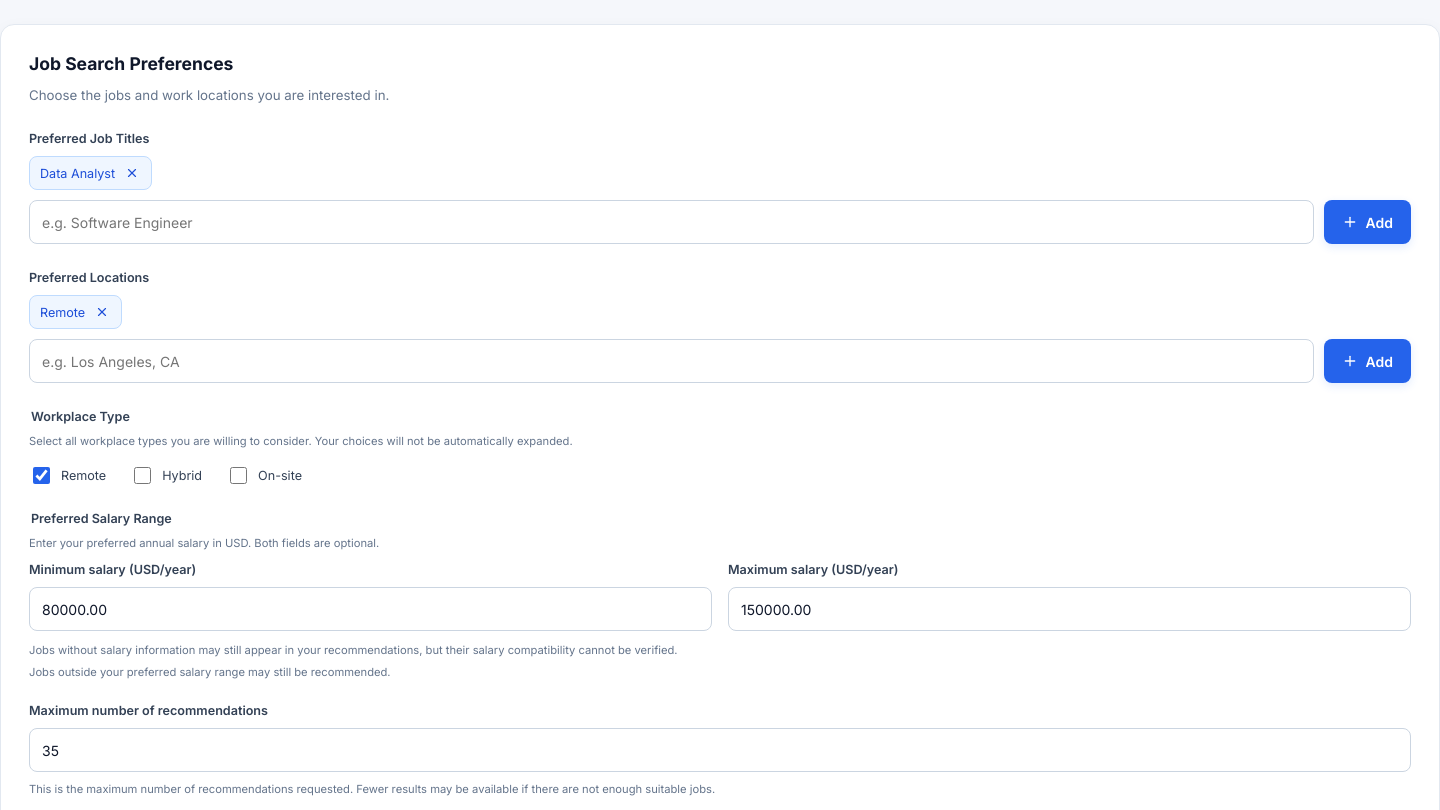
it: SearchPreferencesForm (JH-021) › updates warnings when an unmatched entry is added or removed
Expected: the text "Data Analyst" is shown, [29,156,152,190]
Expected: the text "No current postings match" is not shown
Type "Unknown Job Title" into the field labelled "Preferred Job Titles".
click(671, 222); type("Unknown Job Title")  # box [29,200,1314,244]
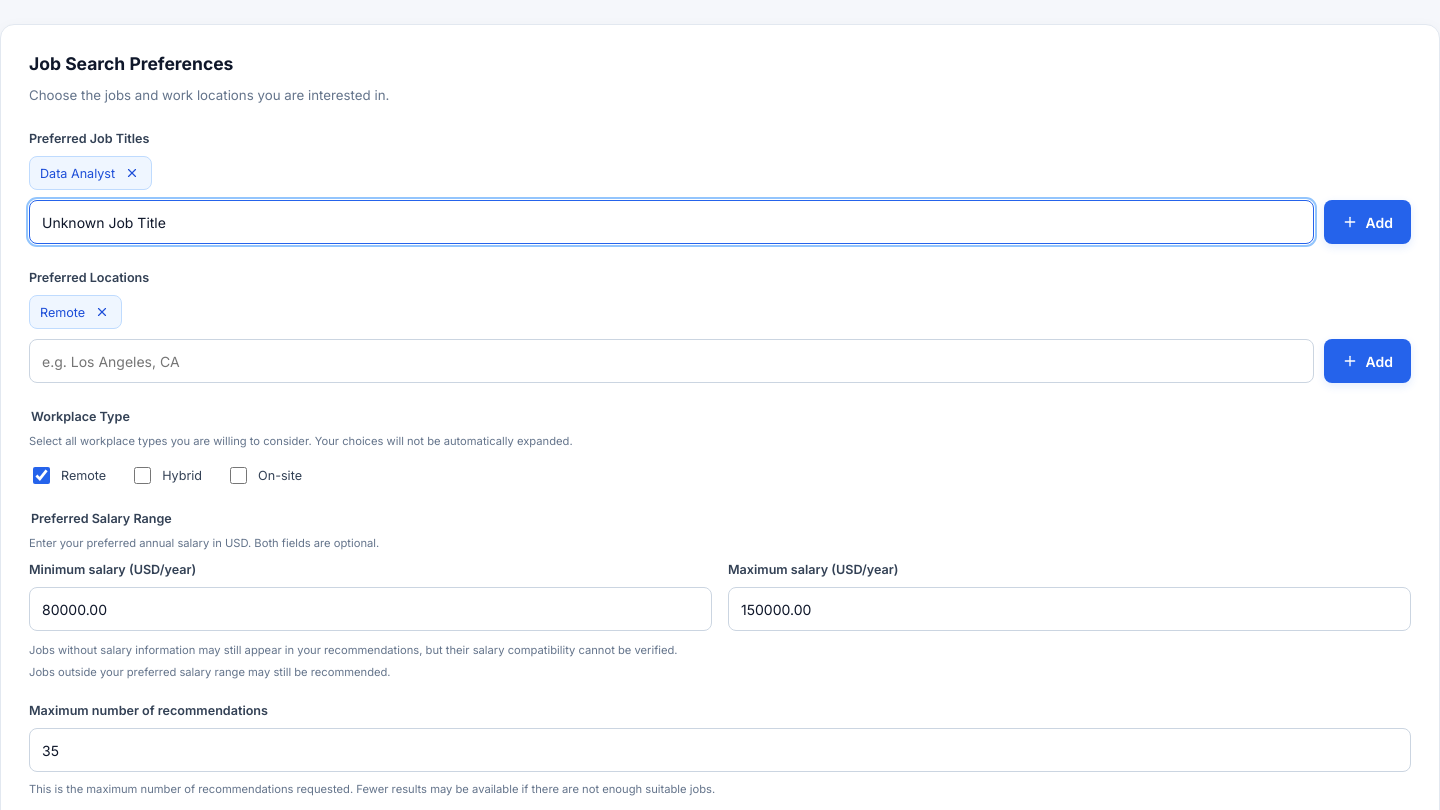
Click the 1st button "Add".
click(1367, 222)  # box [1324,200,1411,244]
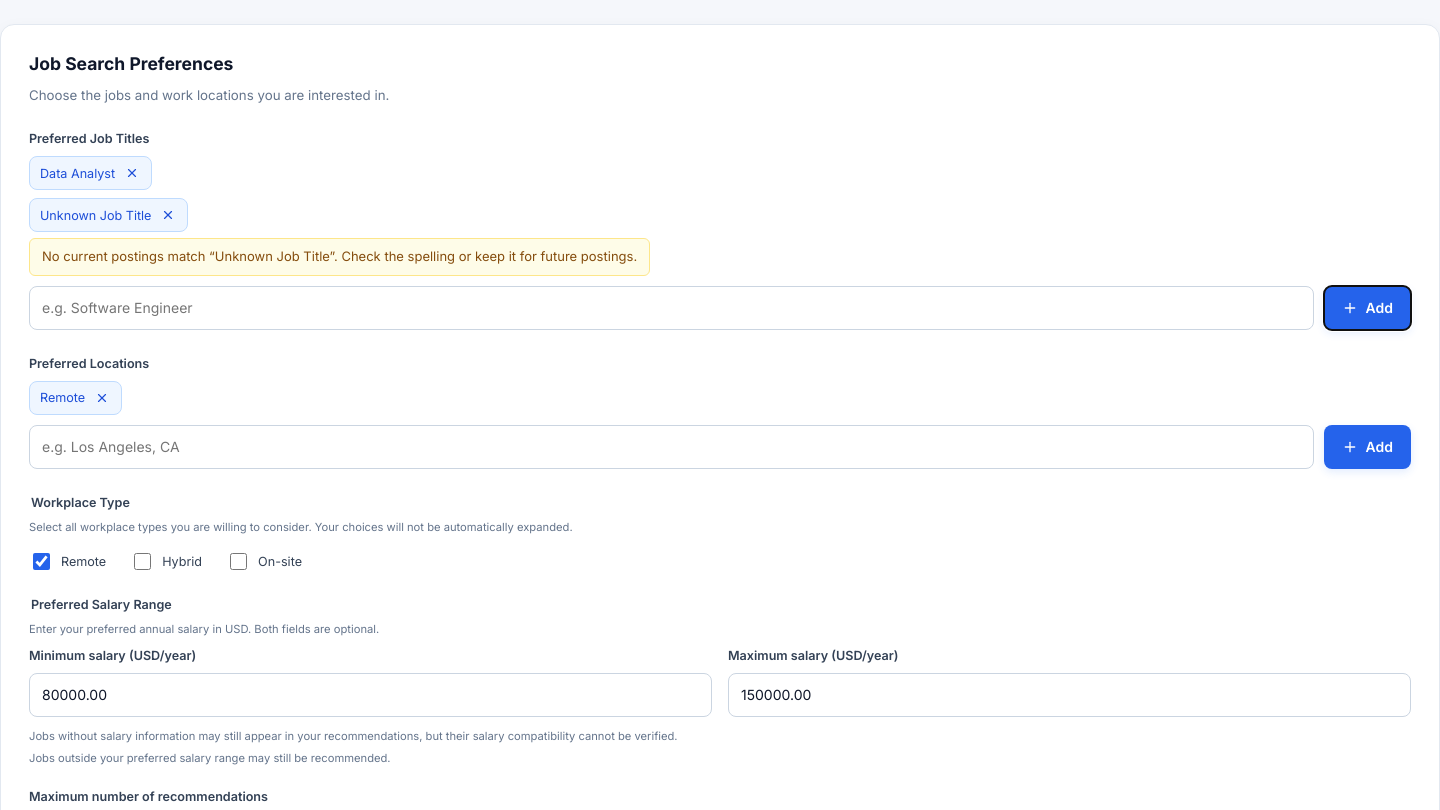
Now the text "No current postings match “Unknown Job Title”" is shown, box [29,238,650,276]
Click the button named "Remove Unknown Job Title".
click(168, 215)  # box [160,206,178,224]
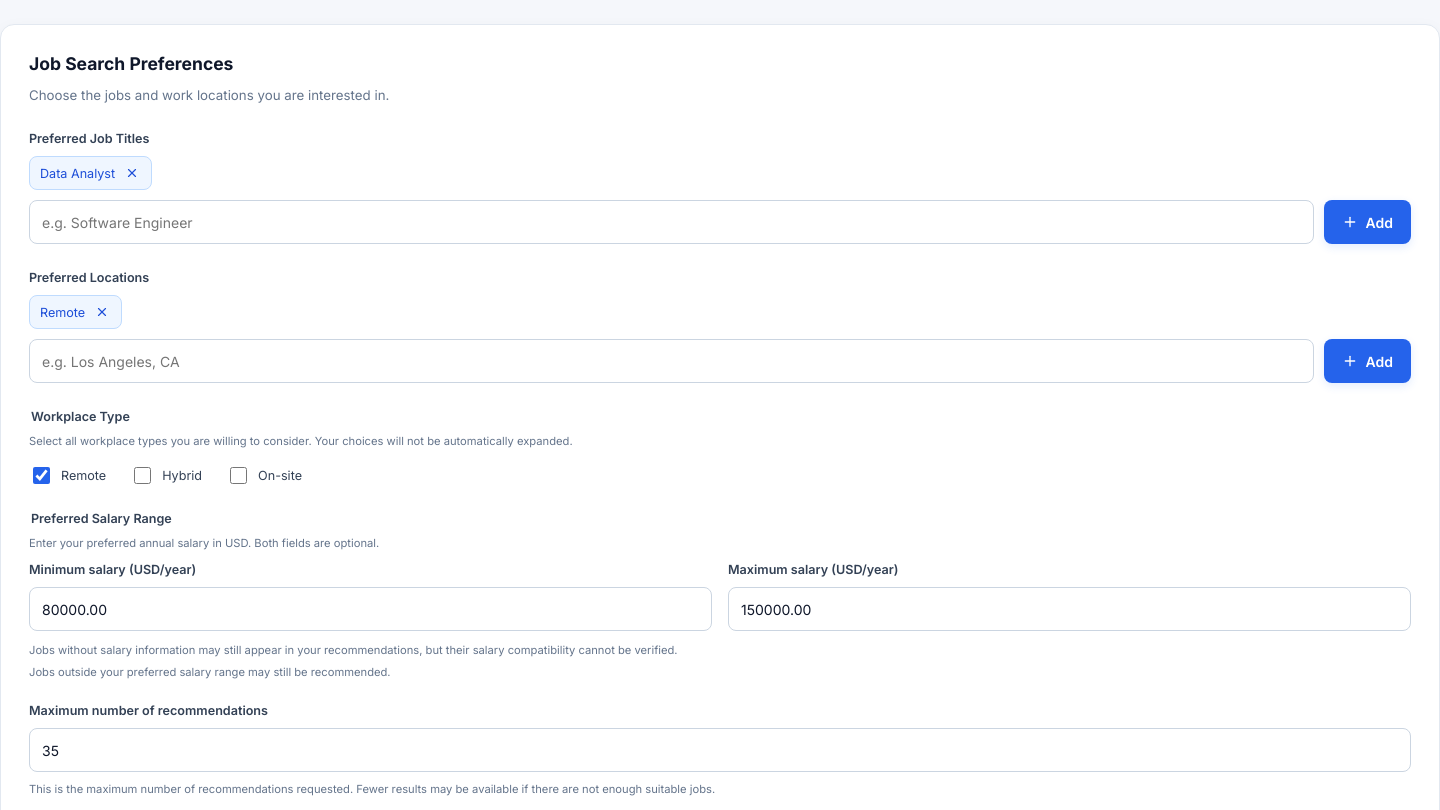
Expected: the text "Data Analyst" is shown, [29,156,152,190]
Now the text "No current postings match “Unknown Job Title”" is gone
Now the text "Unknown Job Title" is gone
